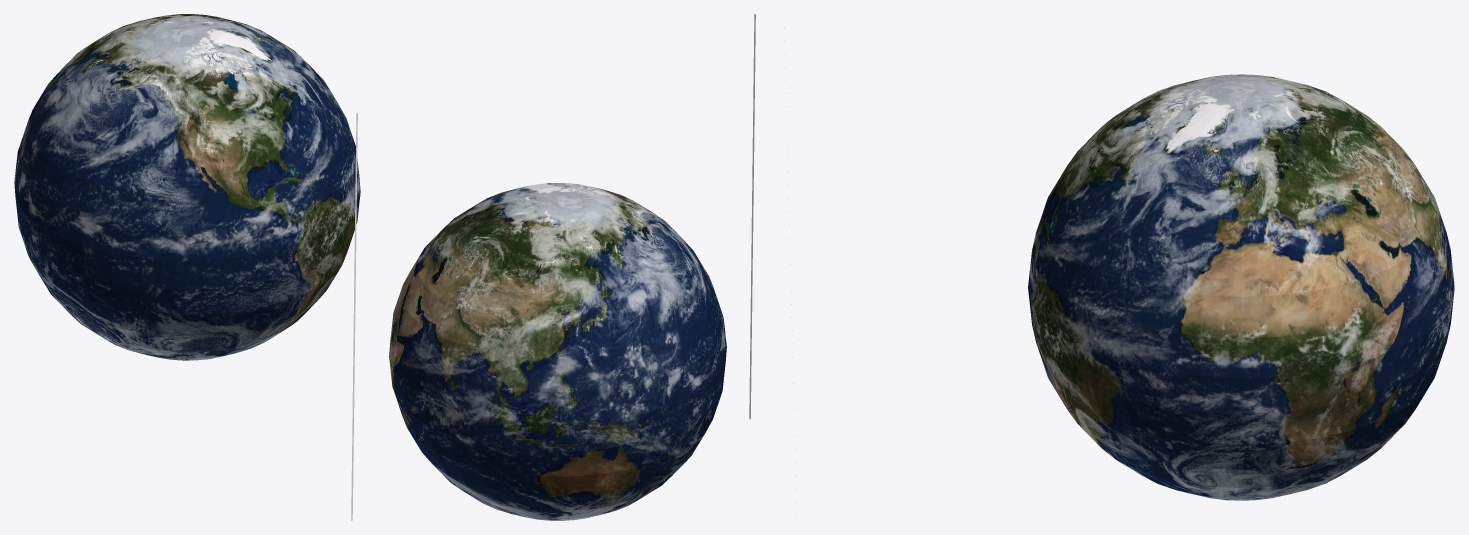
3 views of the same model, side by side, from view 1: azimuth 30°, elevation 25°; view 2: azimuth 150°, elevation 25°; view 3: azimuth 270°, elevation 25° (orthographic). The views are drawn at different scales.
Parts seen in each view (by area): view 1: Сфера, Плоскость; view 2: Сфера, Плоскость; view 3: Сфера.
Part boxes in pixels (left/top/right/bottom): Сфера: left=14, top=14, right=360, bottom=360; Плоскость: left=351, top=113, right=357, bottom=520; Сфера: left=389, top=183, right=726, bottom=520; Плоскость: left=749, top=14, right=755, bottom=419; Сфера: left=1028, top=74, right=1454, bottom=500.
Size of the model in its own units: 24.3 by 31.79 by 38.18.
2 materials, 1 textured.
